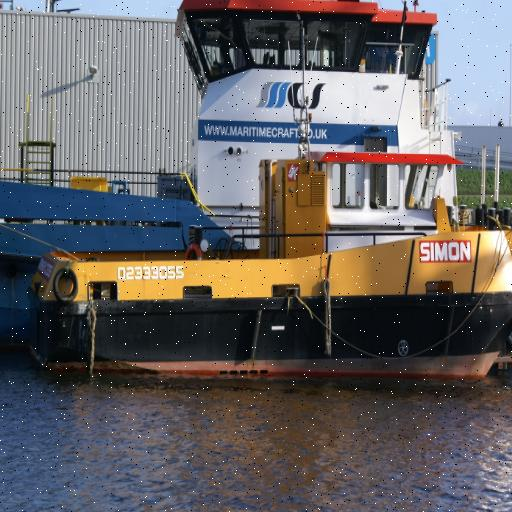tugboat: (24, 135, 512, 409)
